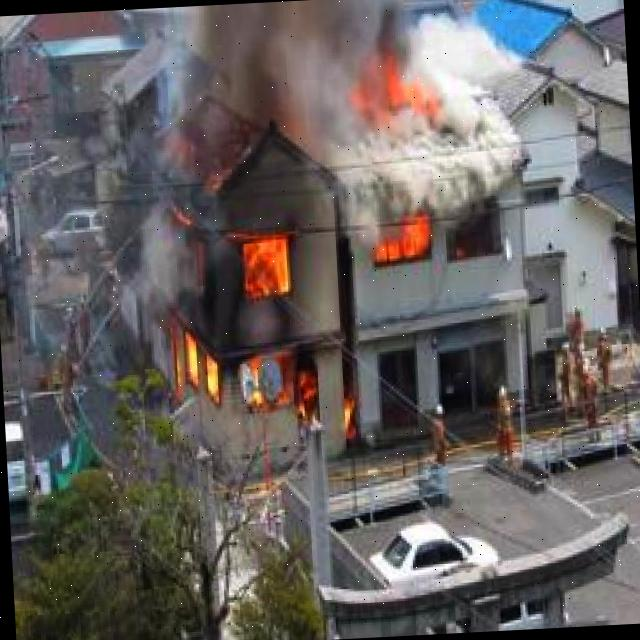fire: (162, 200, 318, 432), (337, 40, 436, 130), (366, 219, 435, 269)
